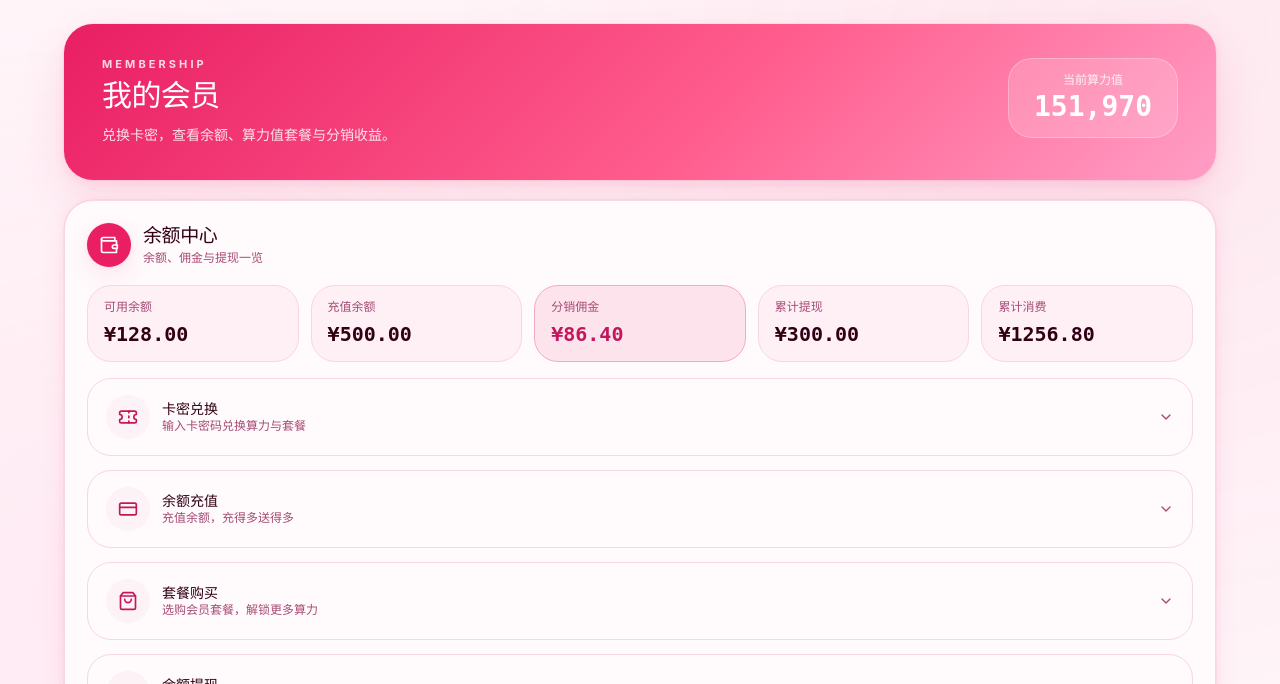
MembershipView (真实接口) › 在线渠道全部停用时，充值区不显示微信/支付宝并给出提示
Click the heading "余额充值 充值余额，充得多送得多" at (128,509), box [106, 487, 1174, 531]
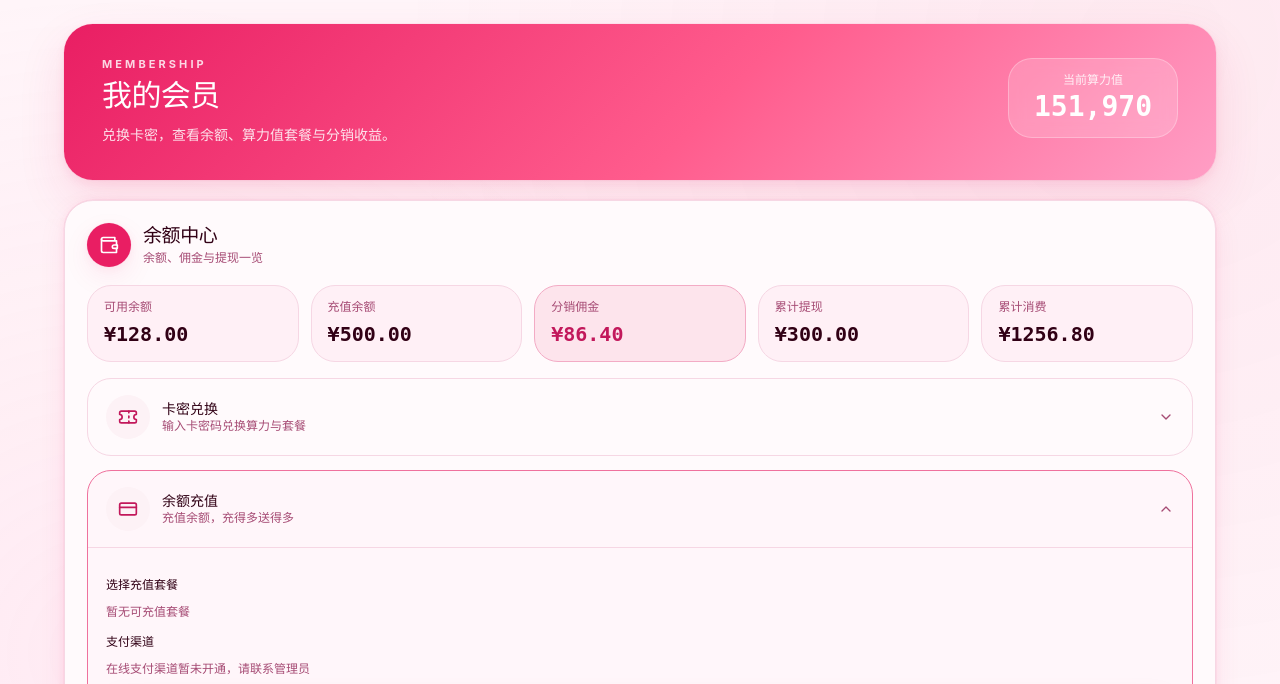
Expected: the text "在线支付渠道暂未开通" is shown, [106, 661, 310, 676]
